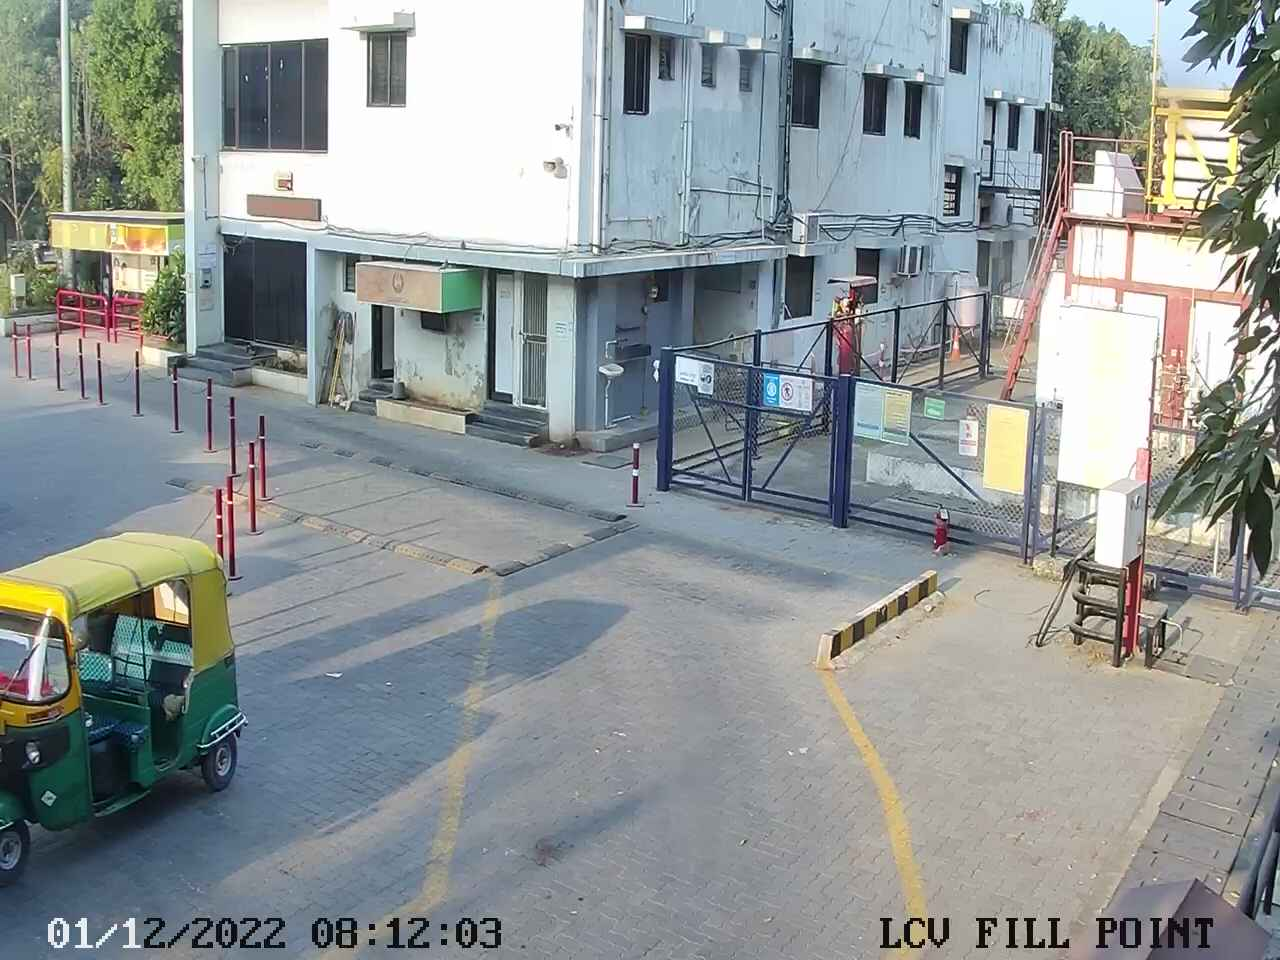Auto: (0, 524, 253, 896), (0, 231, 65, 310)
